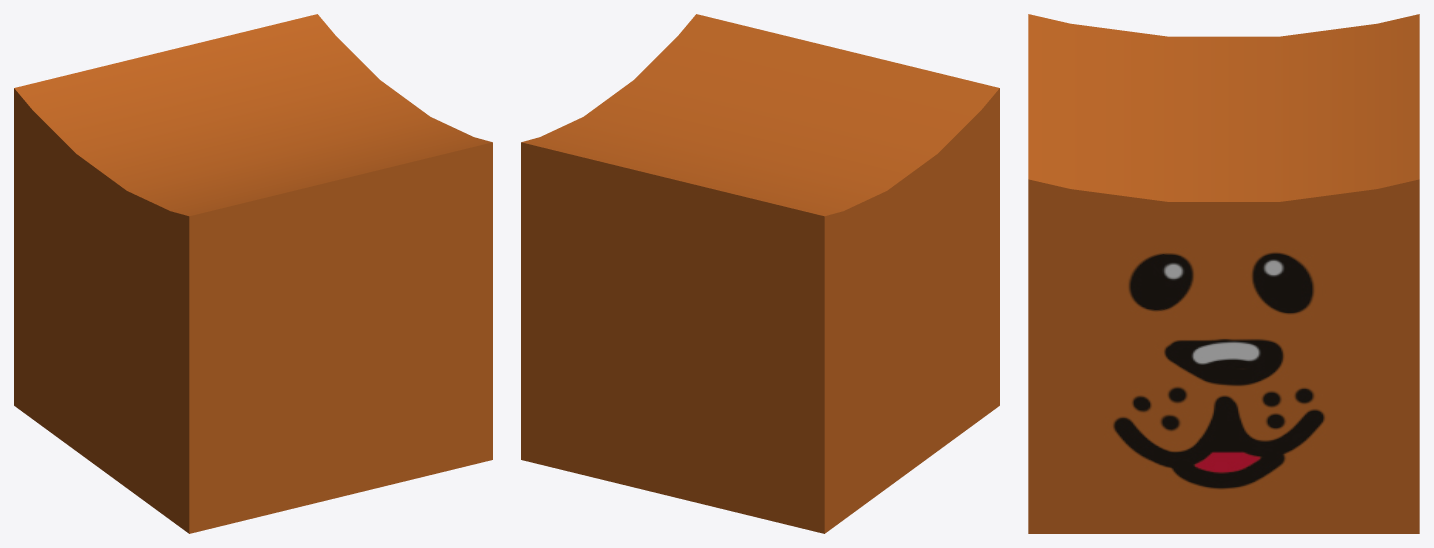
File: dog2.fbx
3 renders of one model, left to right at view 1: azimuth 30°, elevation 25°; view 2: azimuth 150°, elevation 25°; view 3: azimuth 270°, elevation 25°, orthographic. The views are drawn at different scales.
Visible parts, largest first — view 1: Cube; view 2: Cube; view 3: Cube.
Part boxes in pixels (x1,y1,x2,y2): Cube: (14,14,492,533); Cube: (521,14,999,533); Cube: (1028,14,1419,533).
Bounding box in the file's own units: 200 × 200 × 200.
